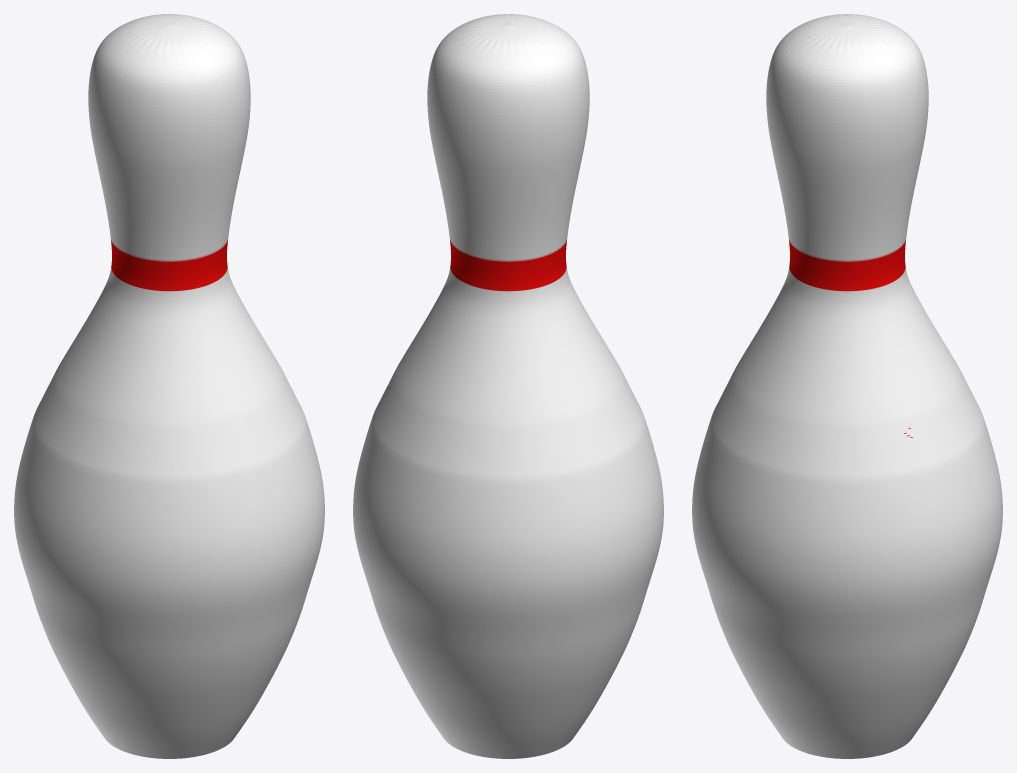
File: pin test.fbx
The picture shows the model from 3 angles, left to right: view 1: azimuth 30°, elevation 25°; view 2: azimuth 150°, elevation 25°; view 3: azimuth 270°, elevation 25°; orthographic projection.
Visible parts, largest first — view 1: Cylinder; view 2: Cylinder; view 3: Cylinder.
Boxes of the visible parts, x1,y1,x2,y2 form: Cylinder: (14, 14, 324, 758); Cylinder: (353, 14, 663, 758); Cylinder: (692, 14, 1002, 758).
Bounding box in the file's own units: 23.95 × 59.92 × 23.95.
